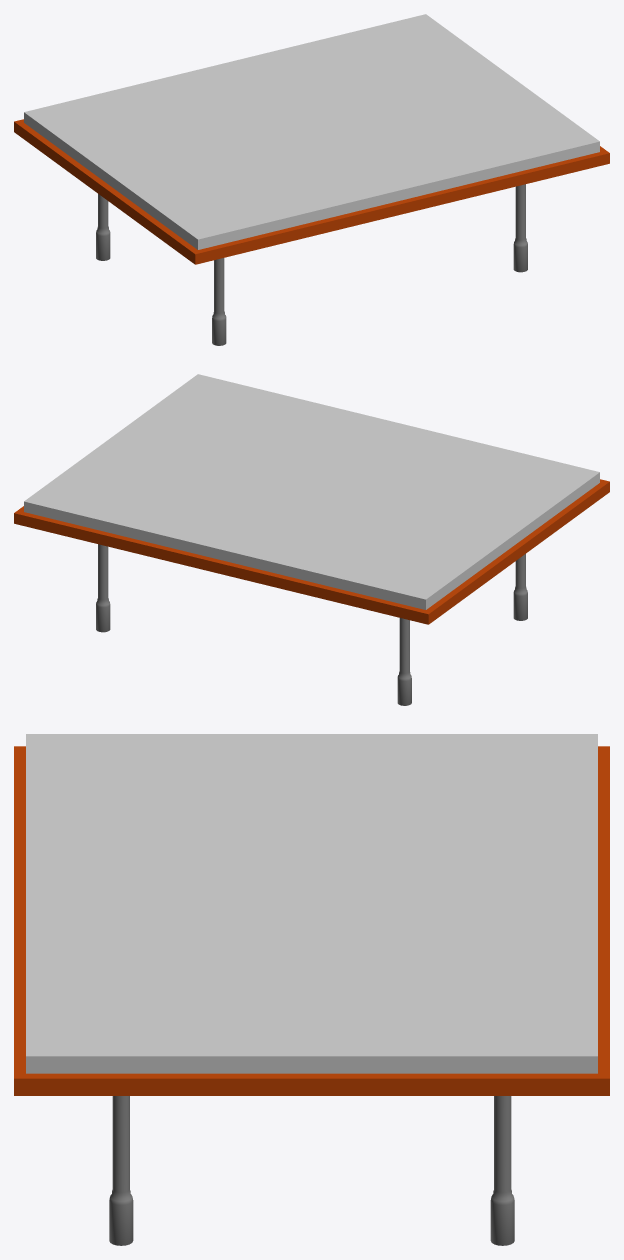
The model's file is station-canopy-authored-vertex-colour-tripo-finish.glb.
3 renders of one model, top to bottom at view 1: azimuth 30°, elevation 25°; view 2: azimuth 150°, elevation 25°; view 3: azimuth 270°, elevation 25°, orthographic. The views are drawn at different scales.
Visible parts, largest first — view 1: Authored_surface_015; view 2: Authored_surface_015; view 3: Authored_surface_015.
Part boxes in pixels (x1,y1,x2,y2): Authored_surface_015: (14,14,609,345); Authored_surface_015: (14,374,609,705); Authored_surface_015: (14,734,609,1245).
Bounding box in the file's own units: 1 × 0.3152 × 0.7576.
